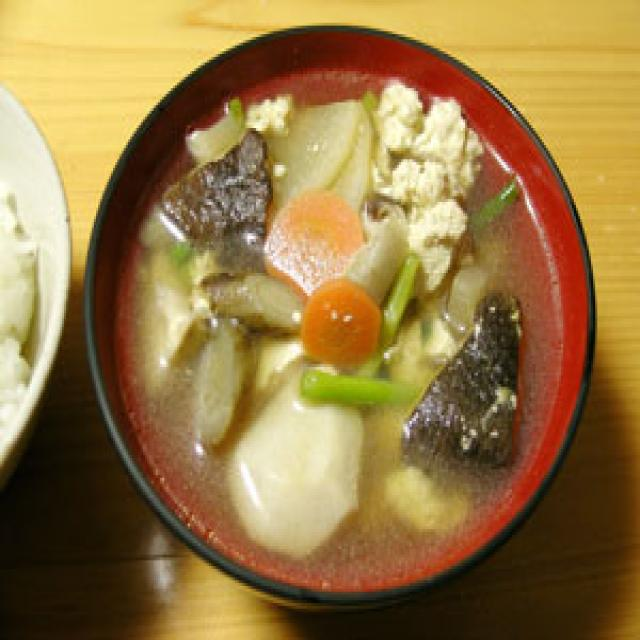蔬菜料理: (51, 15, 610, 634)
